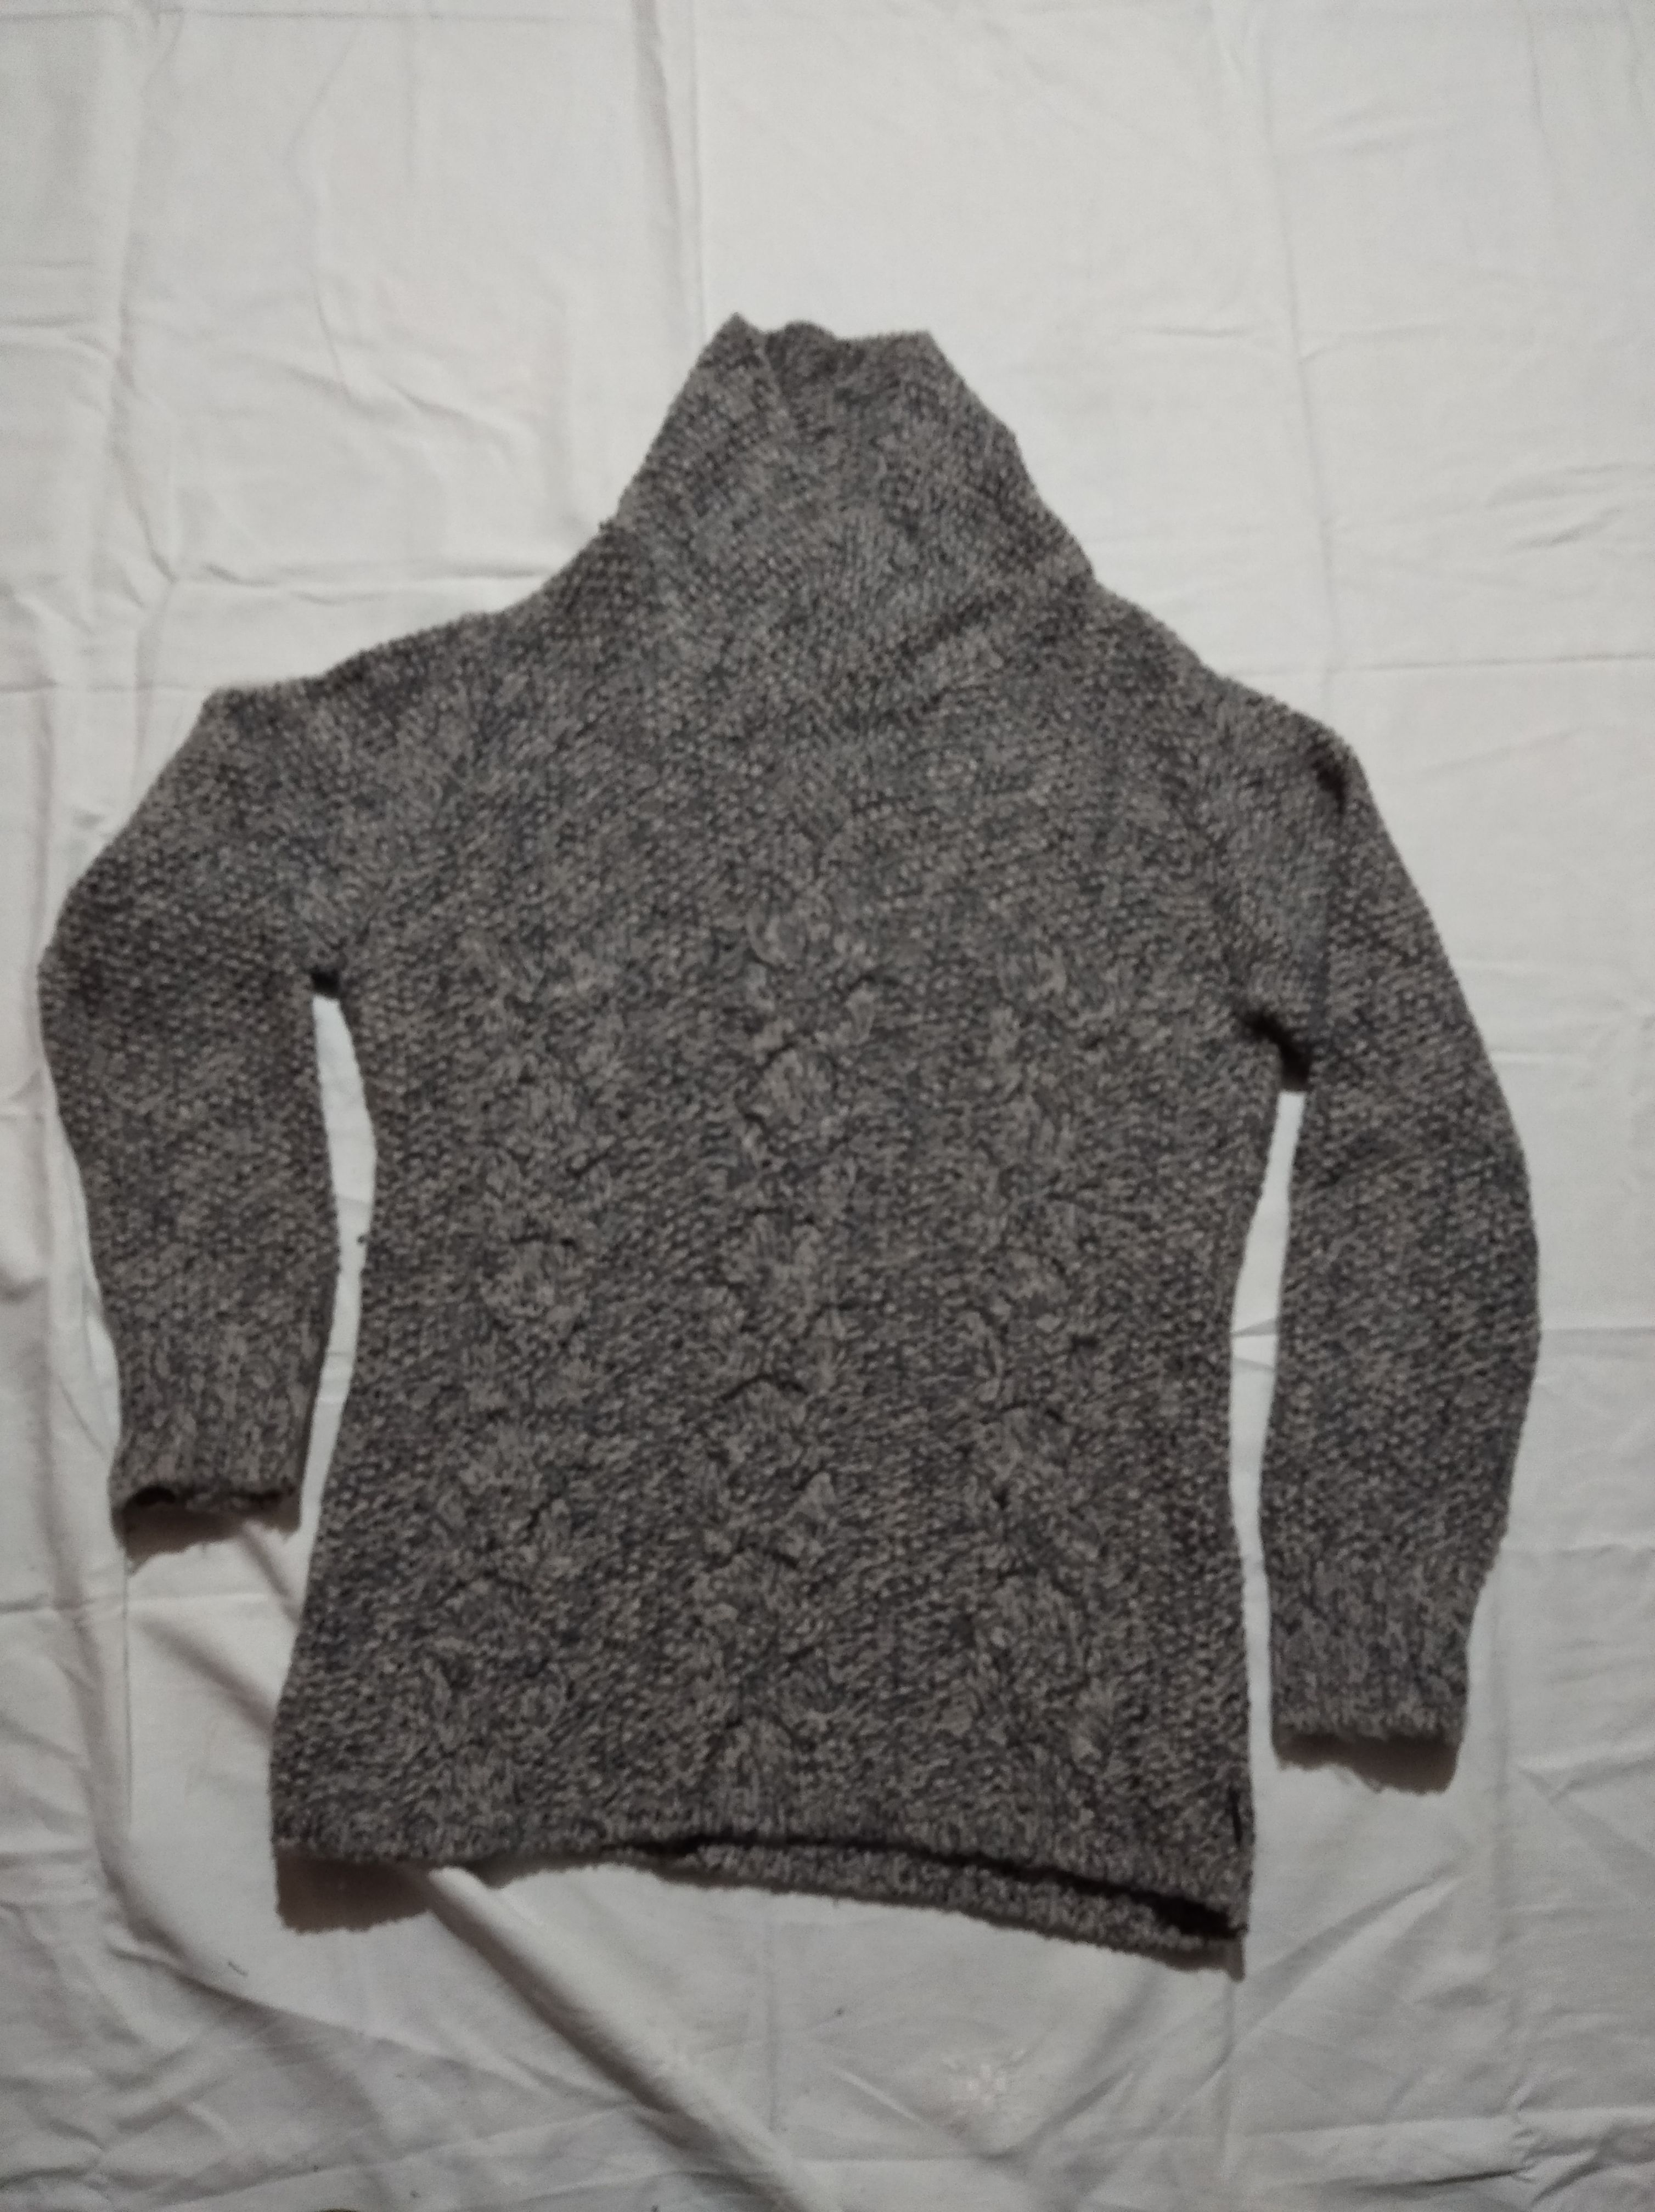clothes: (37, 278, 1514, 1970)
